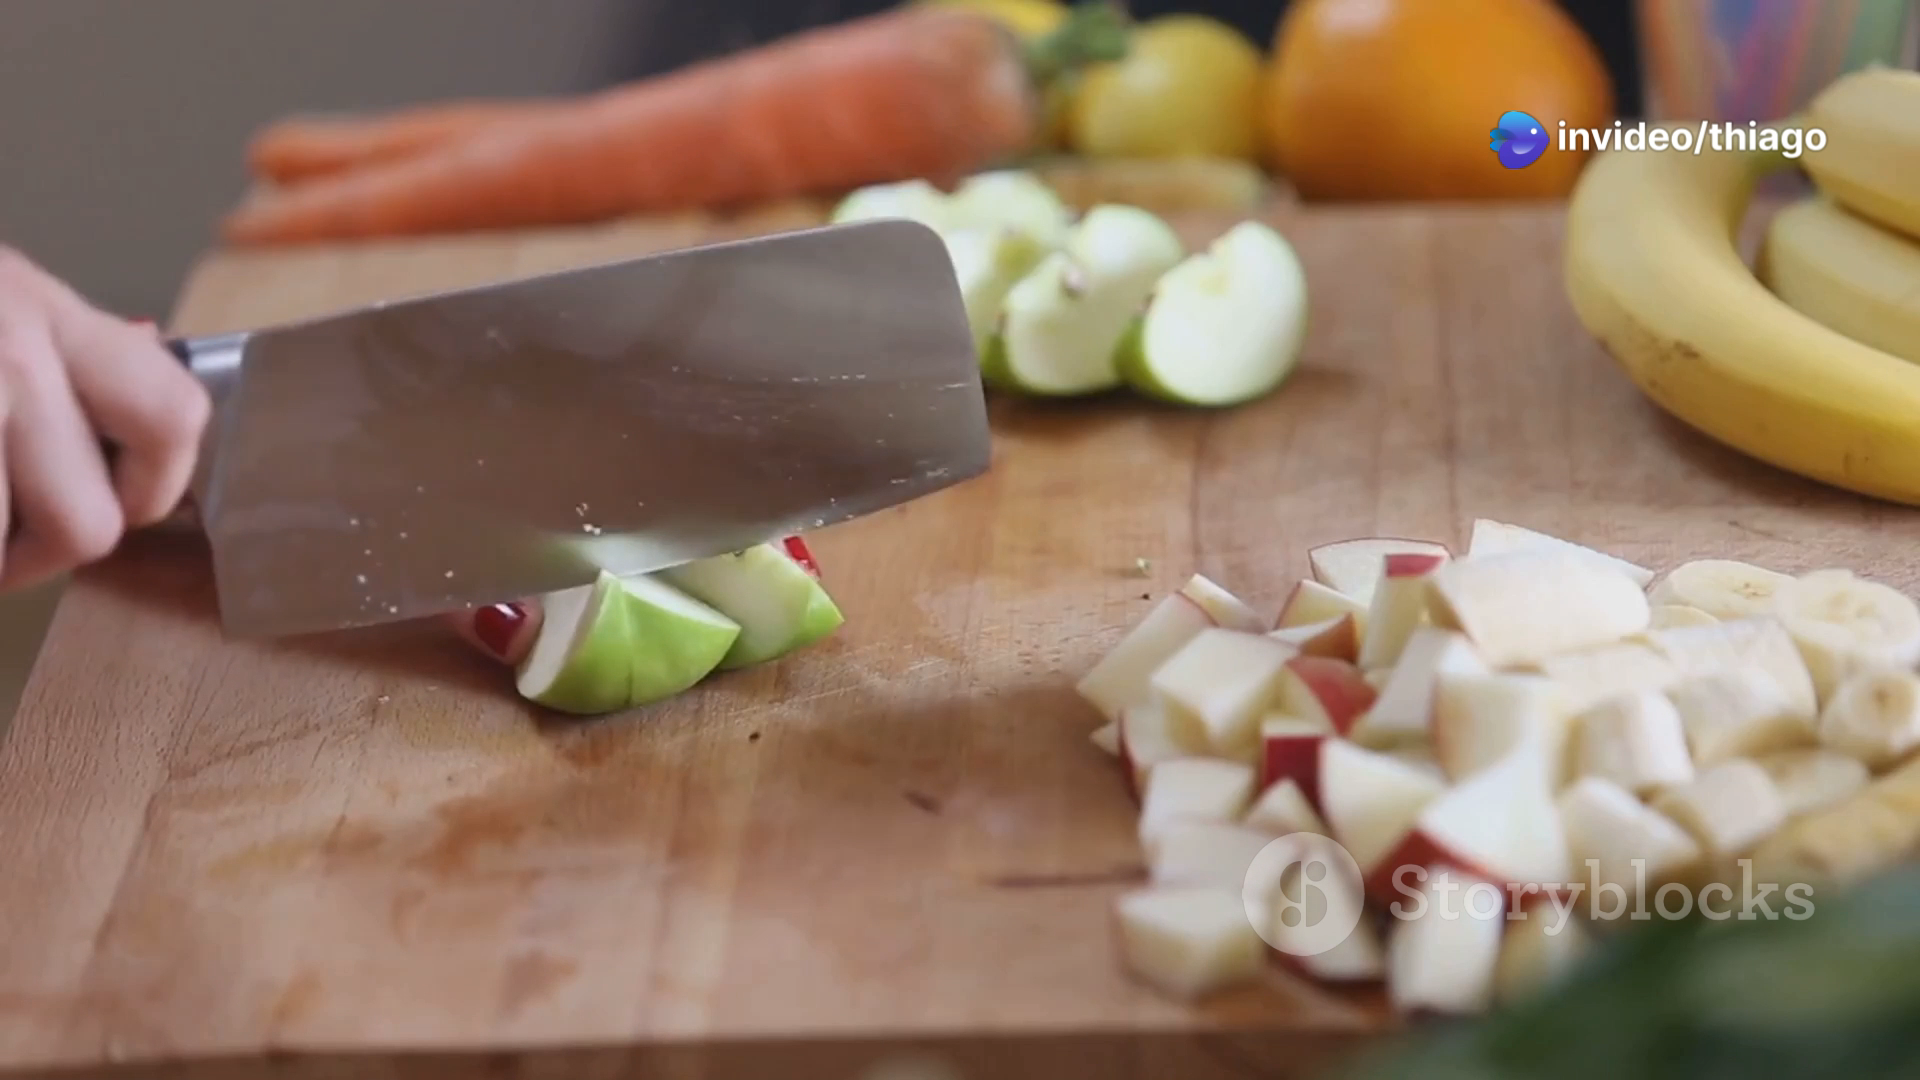cortante: (185, 216, 997, 640)
